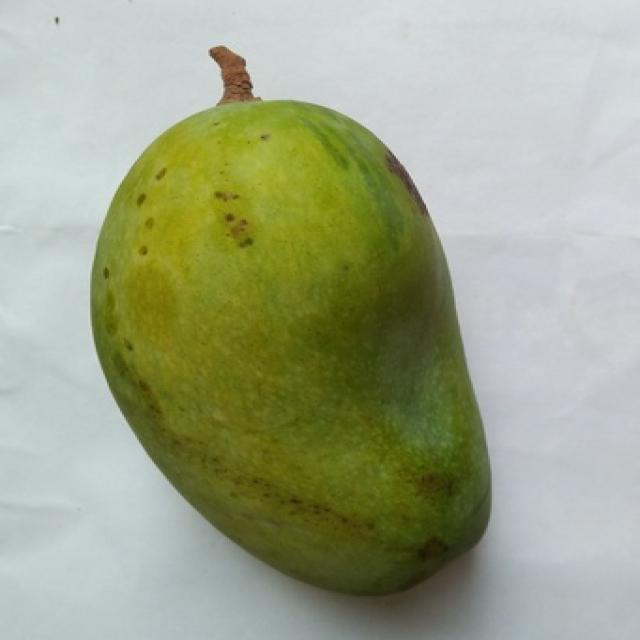Mango: (92, 96, 488, 593)
